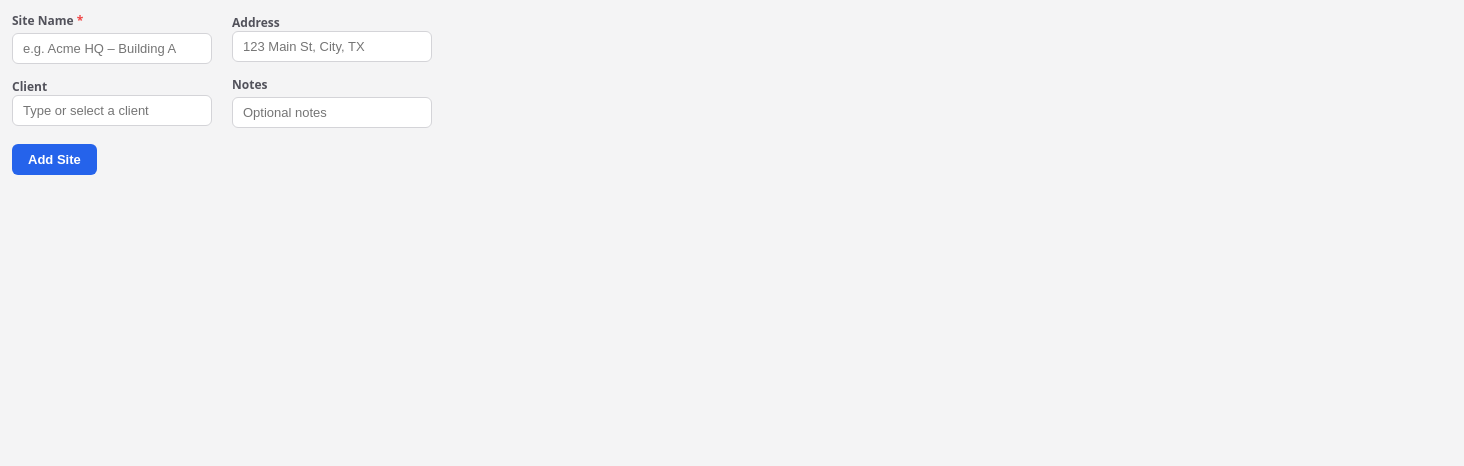
AddSiteForm › phase 1 — site creation form › shows a validation error when createSite returns an error
Type "x" into the field with placeholder "e.g. Acme HQ – Building A" at [112, 48], box [12,33,212,64]
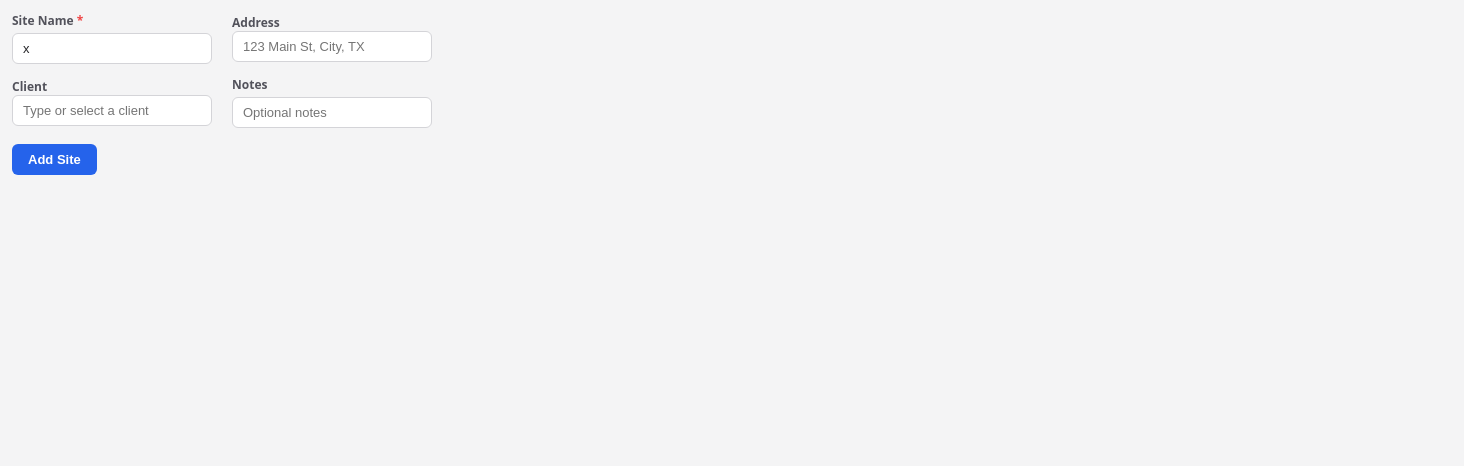
Submit the form with test id "add-site-form", box [12,12,432,175]
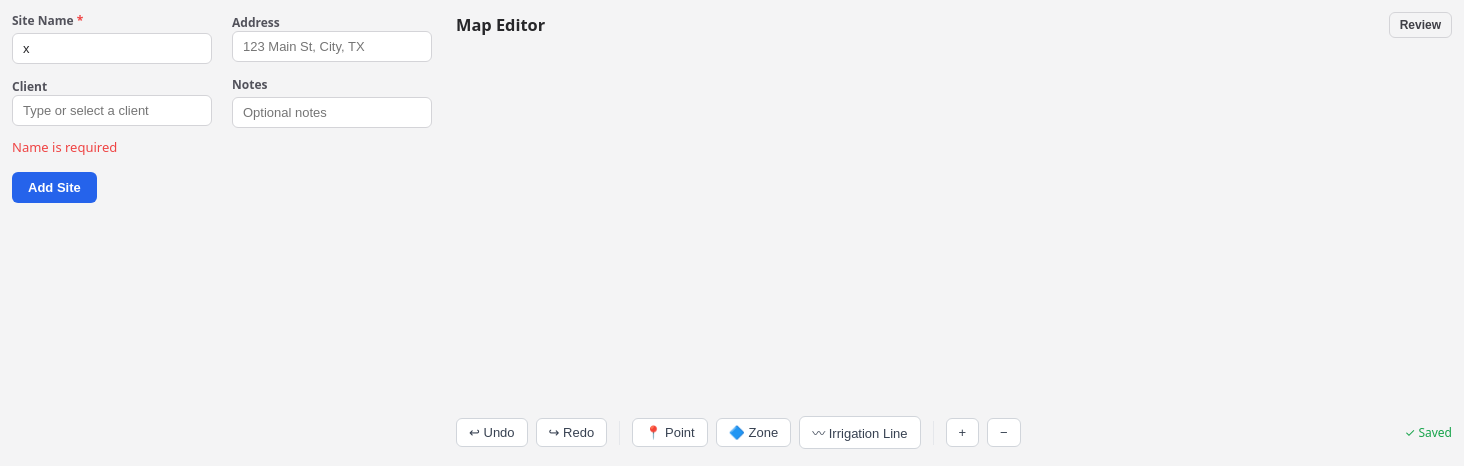
Now the text "Name is required" is shown, box [12,138,117,156]
